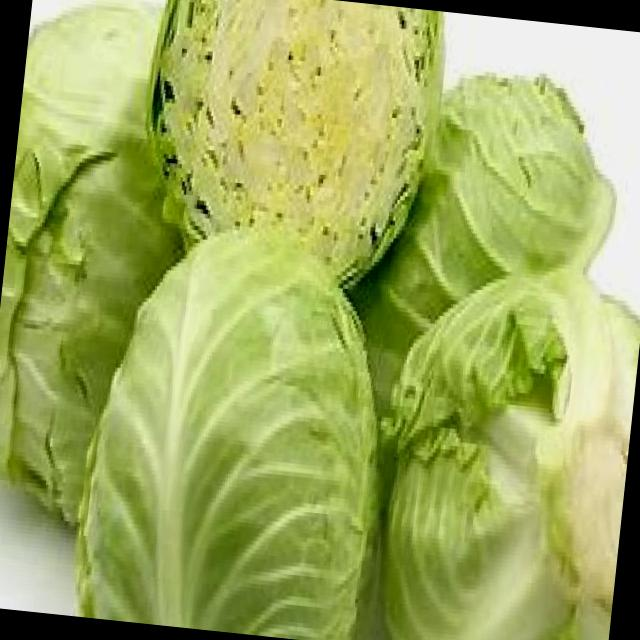cabbage: (68, 225, 398, 640), (370, 265, 640, 640), (128, 0, 442, 283)
